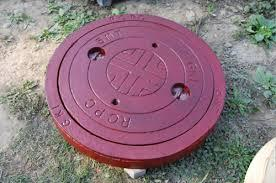fake manhole: (40, 8, 226, 175)
